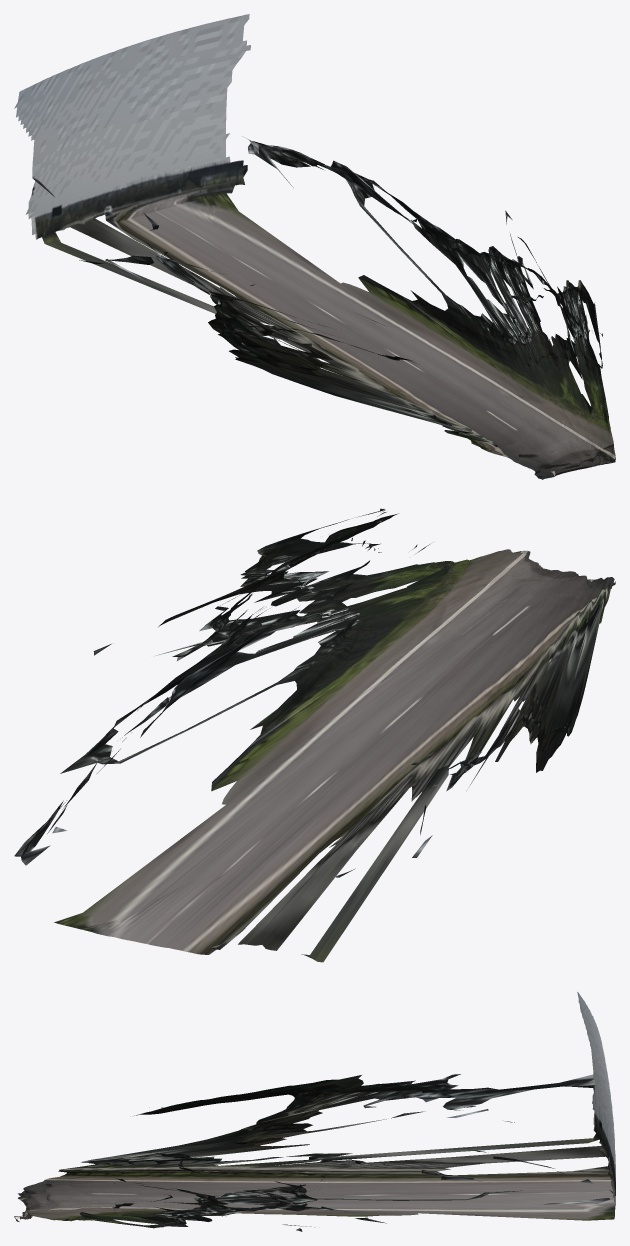
The picture shows the model from 3 angles, top to bottom: view 1: azimuth 30°, elevation 25°; view 2: azimuth 150°, elevation 25°; view 3: azimuth 270°, elevation 25°; orthographic projection. The views are drawn at different scales.
Visible parts, largest first — view 1: defaultobject; view 2: defaultobject; view 3: defaultobject.
Boxes of the visible parts, <box> form: defaultobject: <box>14,14,615,479</box>; defaultobject: <box>14,508,615,962</box>; defaultobject: <box>14,992,615,1231</box>.
Size of the model in its own units: 24.98 by 12.02 by 44.5.
1 material, 1 textured.
